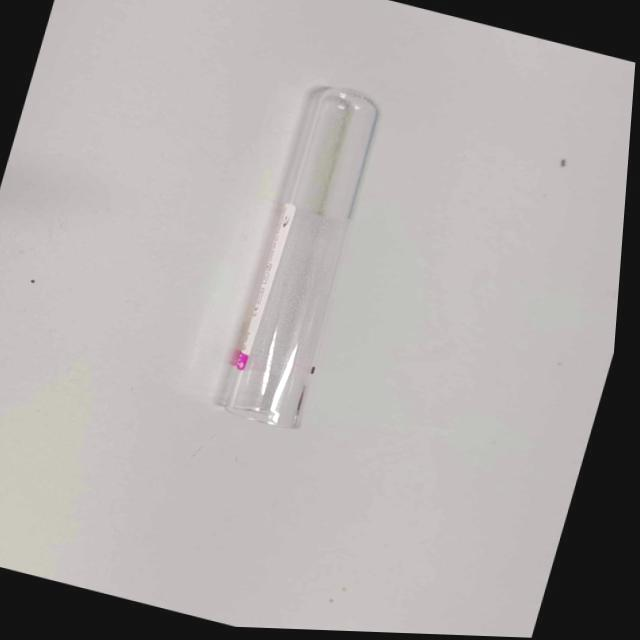Pathological: (3, 1, 638, 636)
Sharps: (216, 83, 381, 429), (231, 201, 298, 371)
